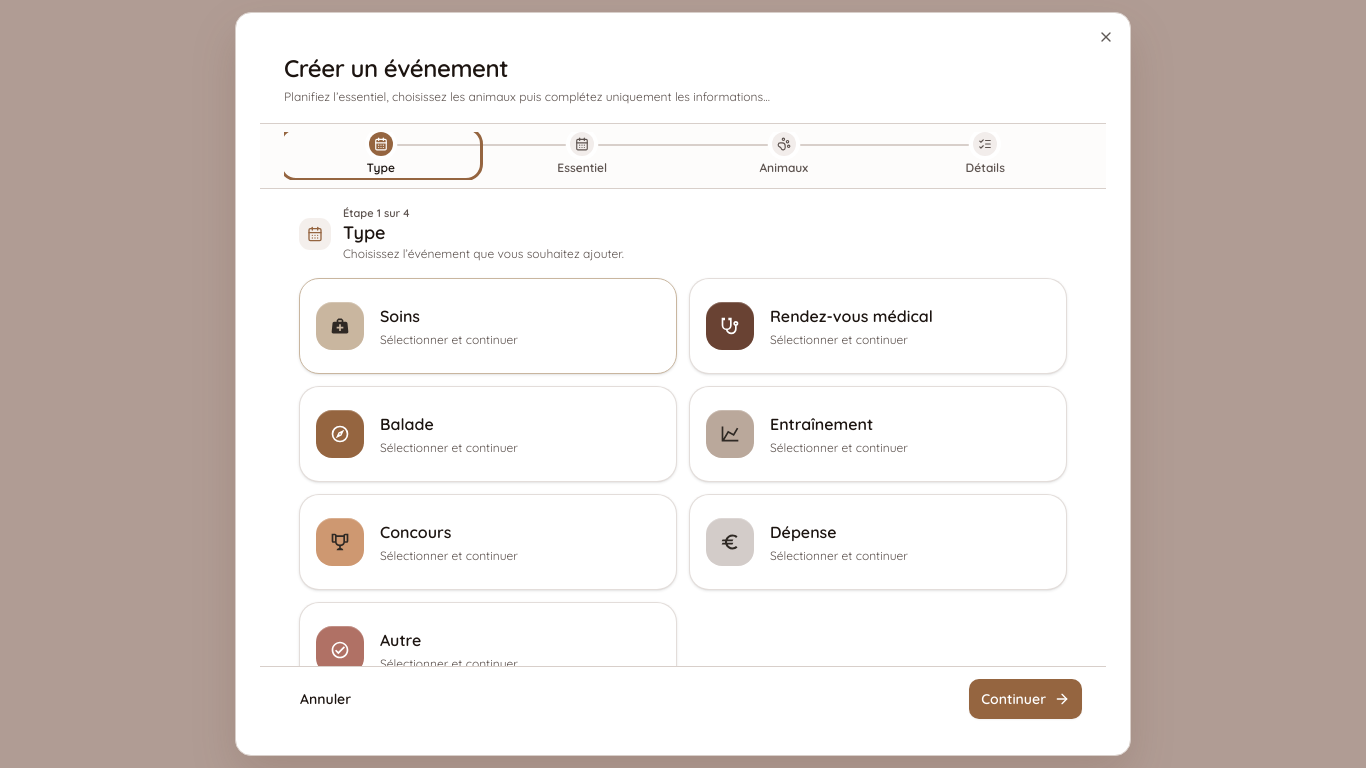
Test: EventFormDrawer › présélectionne Tous les jours pour un nouveau soin
Click the button "Continuer" at (1026,699), box [969, 679, 1082, 719]
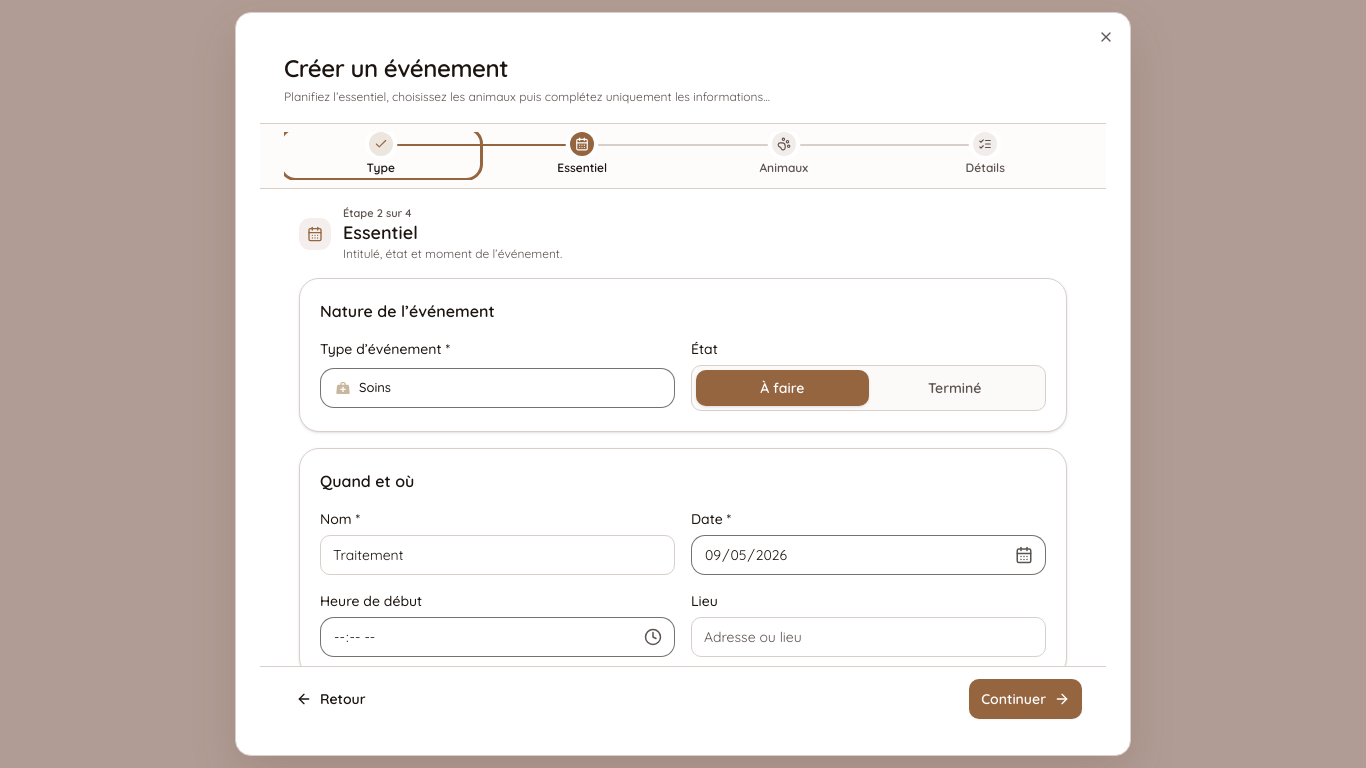
Click the button "Continuer" at (1026,699), box [969, 679, 1082, 719]
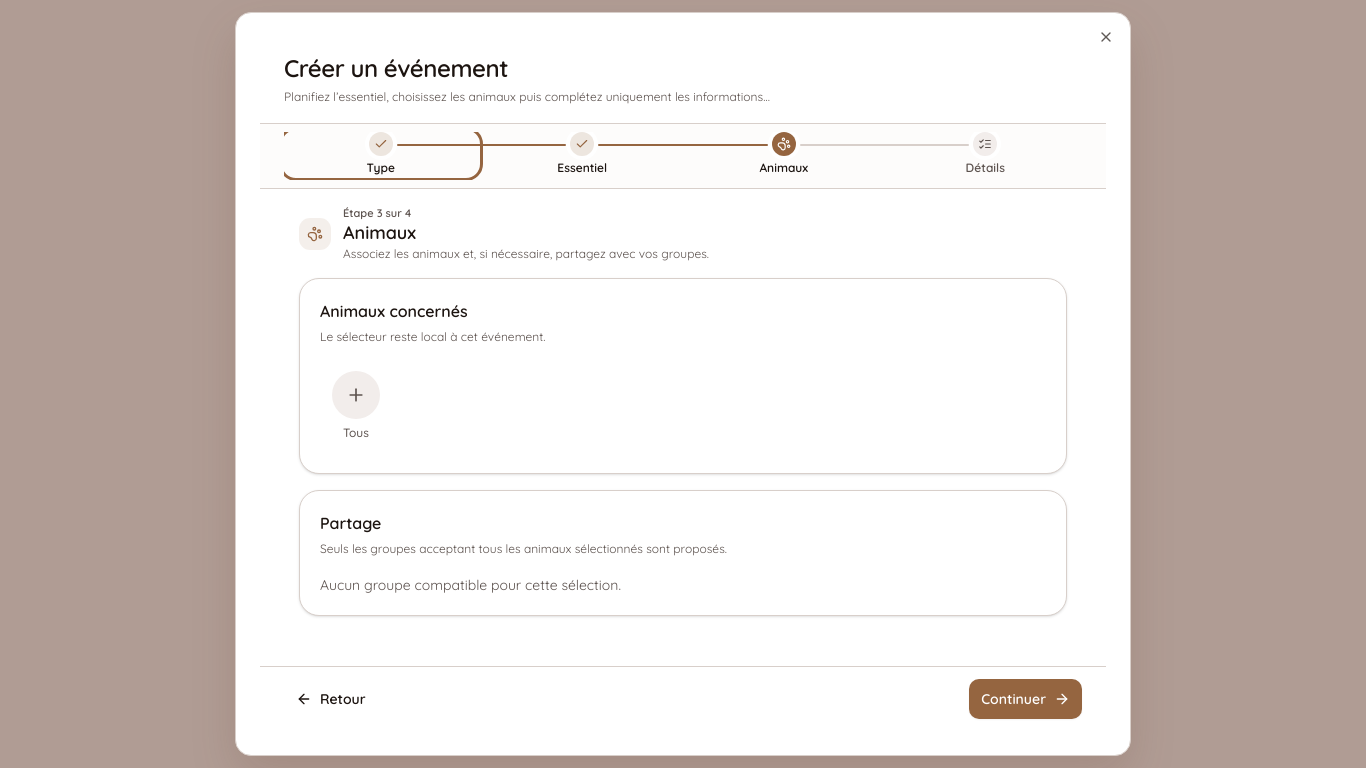
Click the button "Continuer" at (1026,699), box [969, 679, 1082, 719]
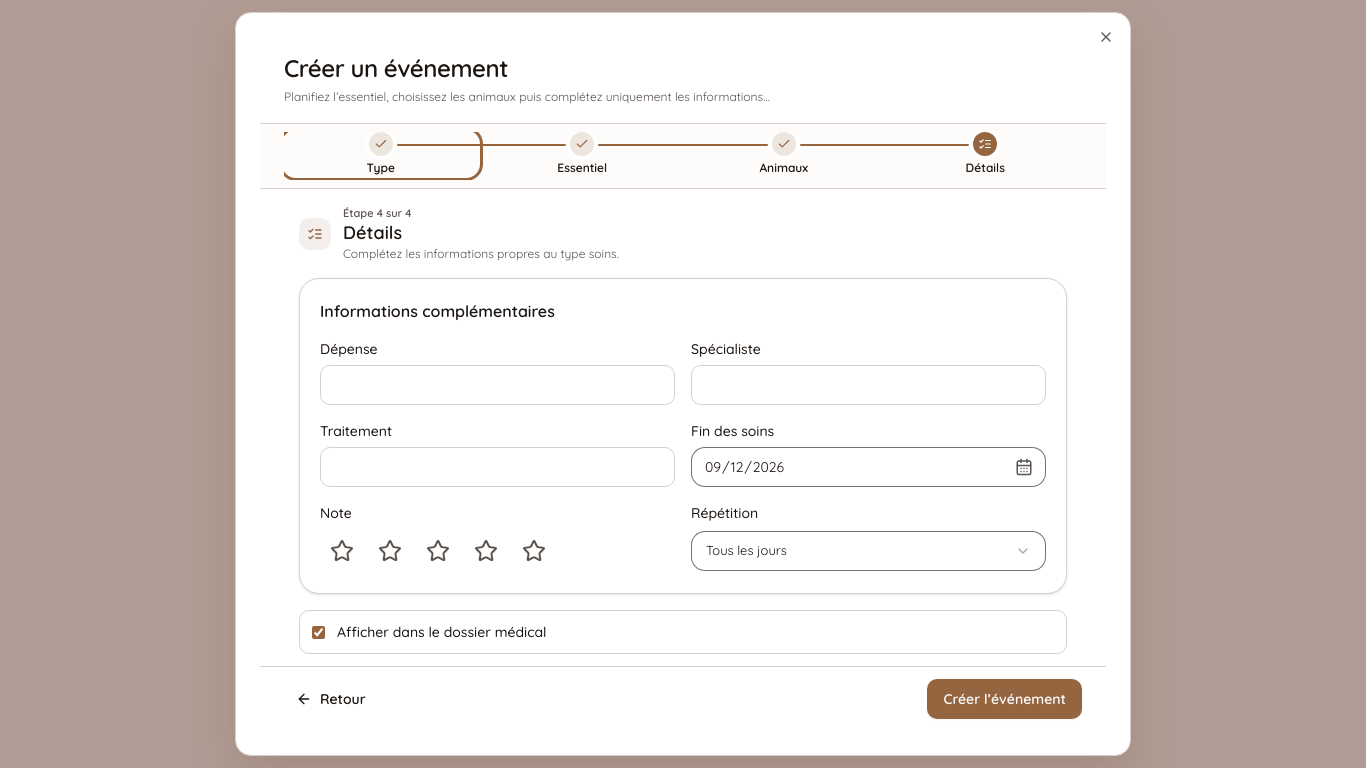
Expected: the dropdown named "Répétition" reads "Tous les jours", [691, 531, 1046, 571]
